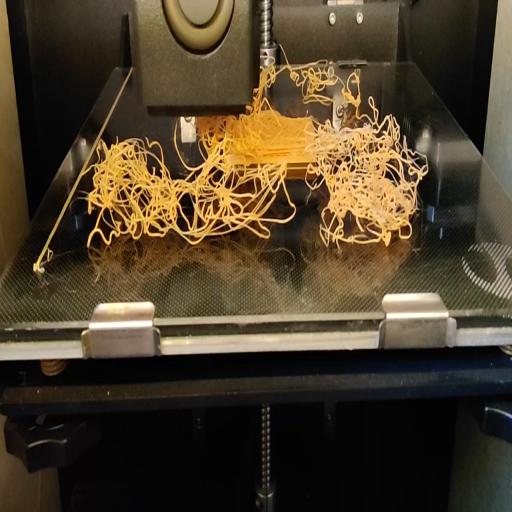spaghetti: (76, 117, 435, 263), (258, 37, 386, 115)
